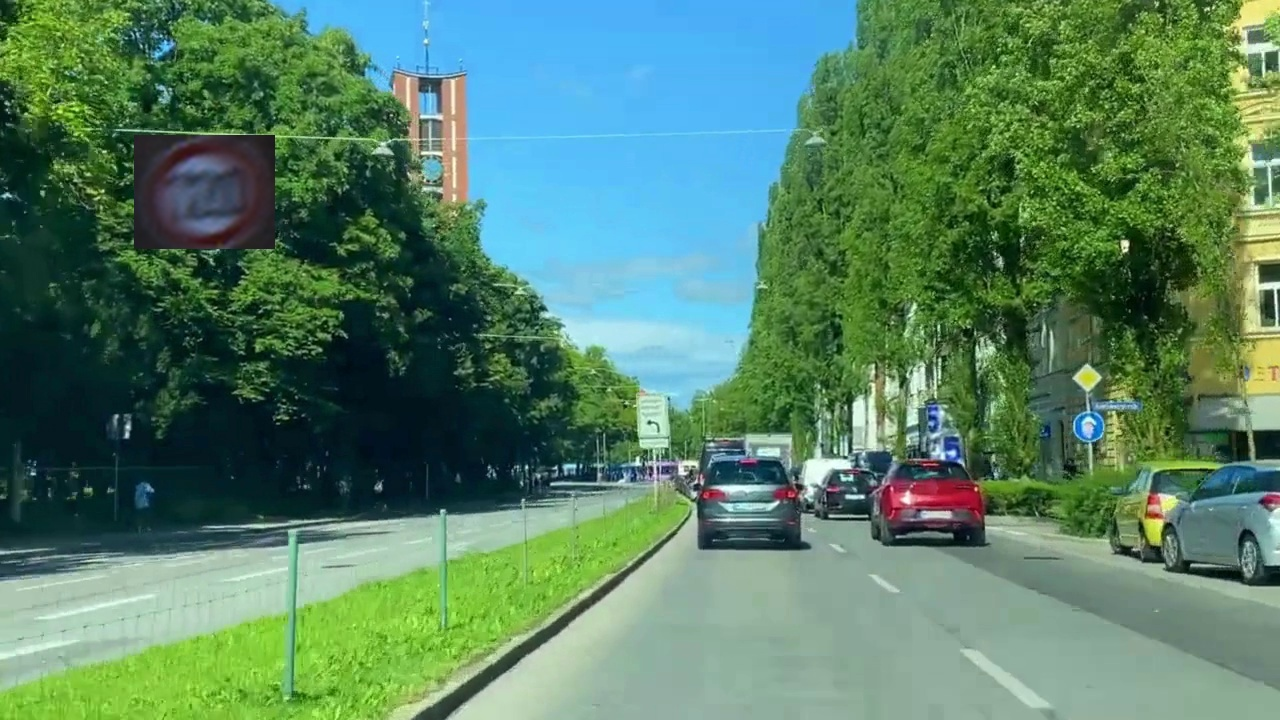Speed 120: (134, 135, 275, 249)
